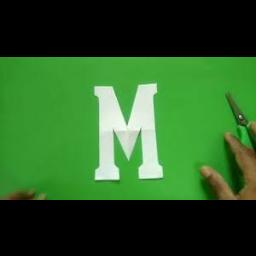m: (80, 75, 172, 189)
